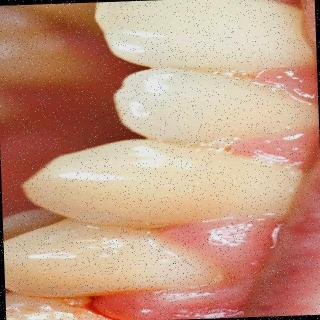Gum Swelling: (94, 219, 283, 320)
